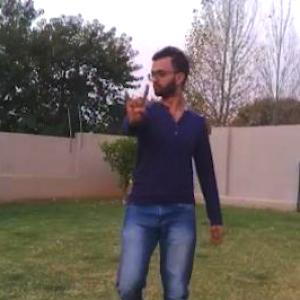takeoff-hand: (120, 76, 156, 124)
